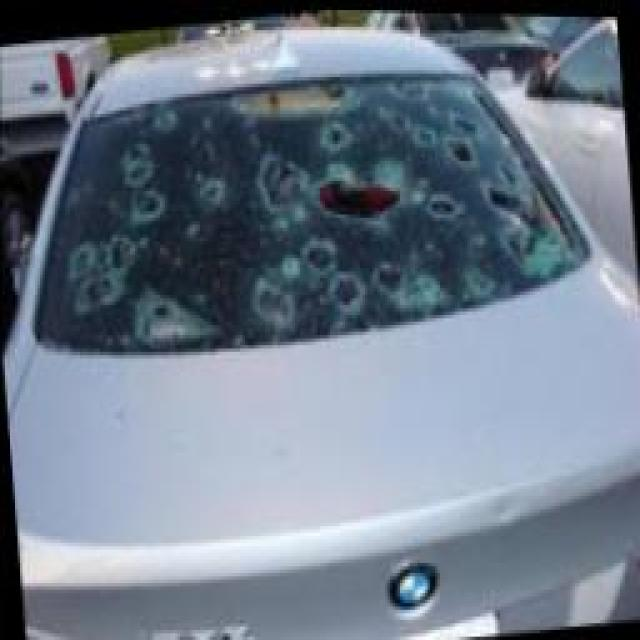Windshield: (37, 65, 583, 341)
